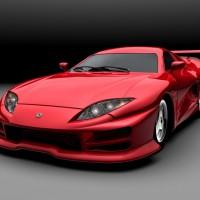small: (0, 44, 199, 166)
